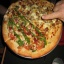pizza: (3, 1, 61, 57)
